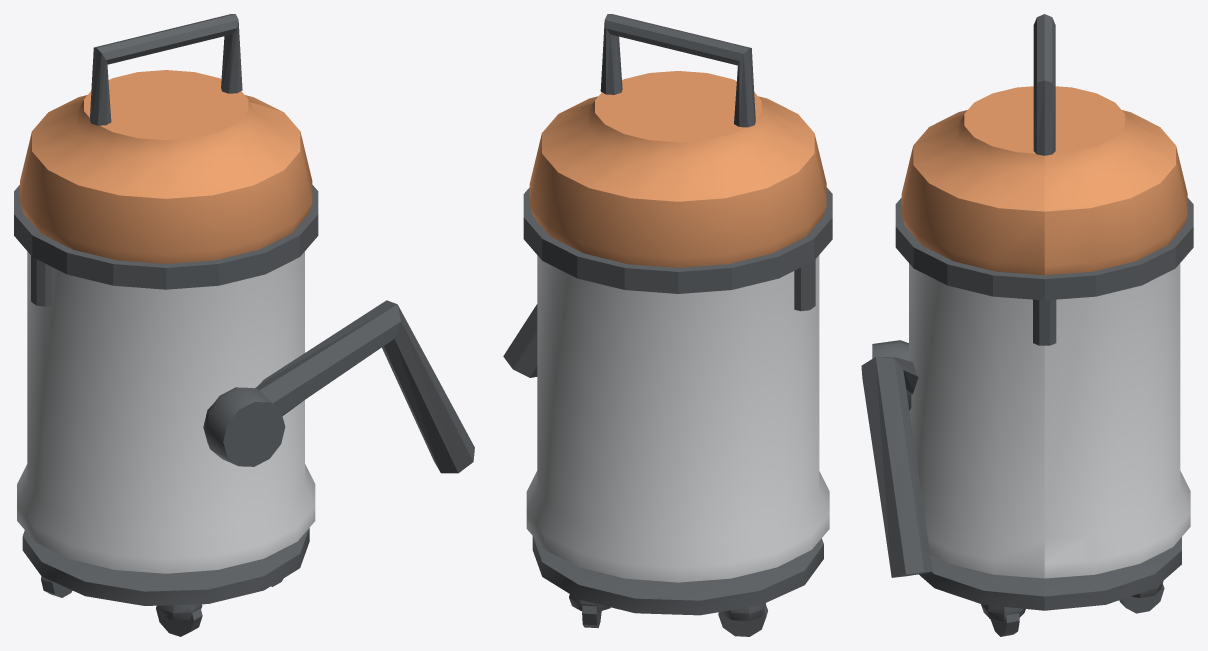
The model's file is home-appliances-and-utility-vacuum-wet-and-dry-b4902335__14162.glb.
The picture shows the model from 3 angles, left to right: view 1: azimuth 30°, elevation 25°; view 2: azimuth 150°, elevation 25°; view 3: azimuth 270°, elevation 25°; orthographic projection. The views are drawn at different scales.
Parts seen in each view (by area): view 1: vacuum-wet-and-dry; view 2: vacuum-wet-and-dry; view 3: vacuum-wet-and-dry.
Boxes of the visible parts, x1,y1,x2,y2 form: vacuum-wet-and-dry: [14, 14, 474, 636]; vacuum-wet-and-dry: [503, 14, 832, 636]; vacuum-wet-and-dry: [861, 14, 1193, 636].
Size of the model in its own units: 0.5383 by 0.7712 by 0.4257.
